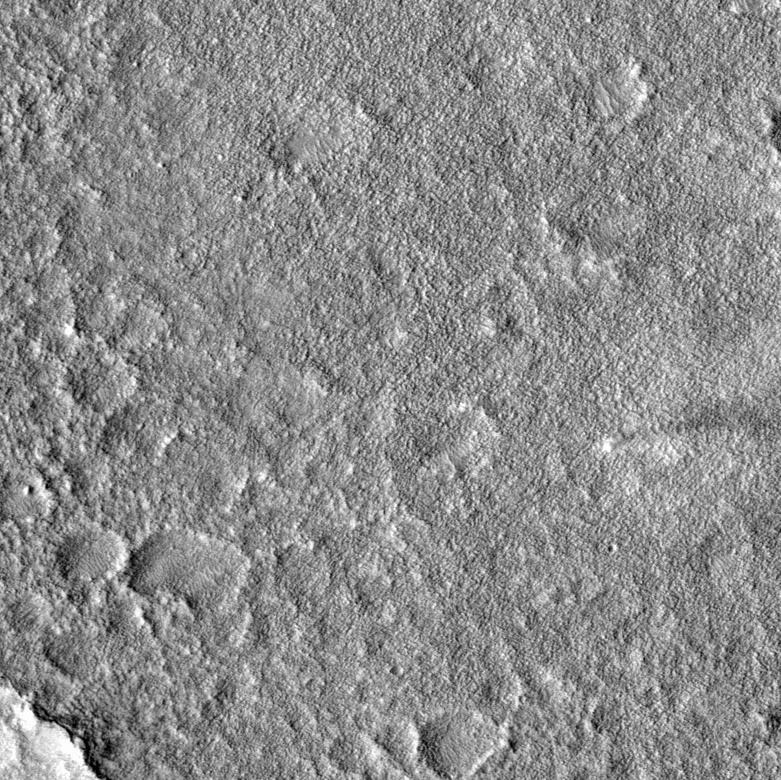dust_devil: (598, 396, 767, 456)
